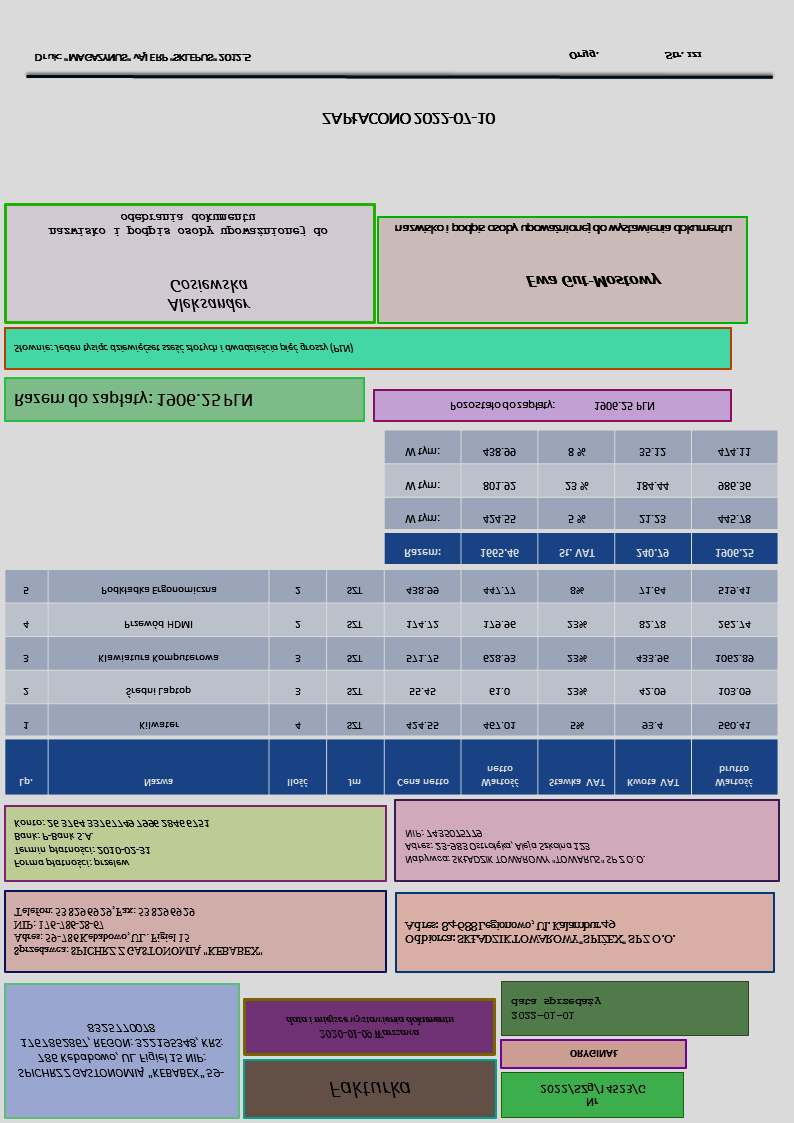Table: (3, 568, 779, 796), (383, 430, 778, 565)
TextBox: (11, 904, 266, 960), (12, 1019, 226, 1082), (10, 817, 212, 871), (401, 827, 647, 867), (400, 918, 676, 948), (46, 211, 328, 240), (391, 220, 733, 237), (12, 389, 254, 411), (284, 1013, 456, 1041), (12, 342, 355, 356), (318, 108, 497, 129), (165, 276, 255, 315), (30, 50, 253, 65), (523, 269, 664, 292), (537, 1081, 648, 1110), (448, 399, 655, 414), (509, 994, 603, 1023), (565, 48, 705, 63), (326, 1077, 412, 1100), (566, 1048, 620, 1061)
